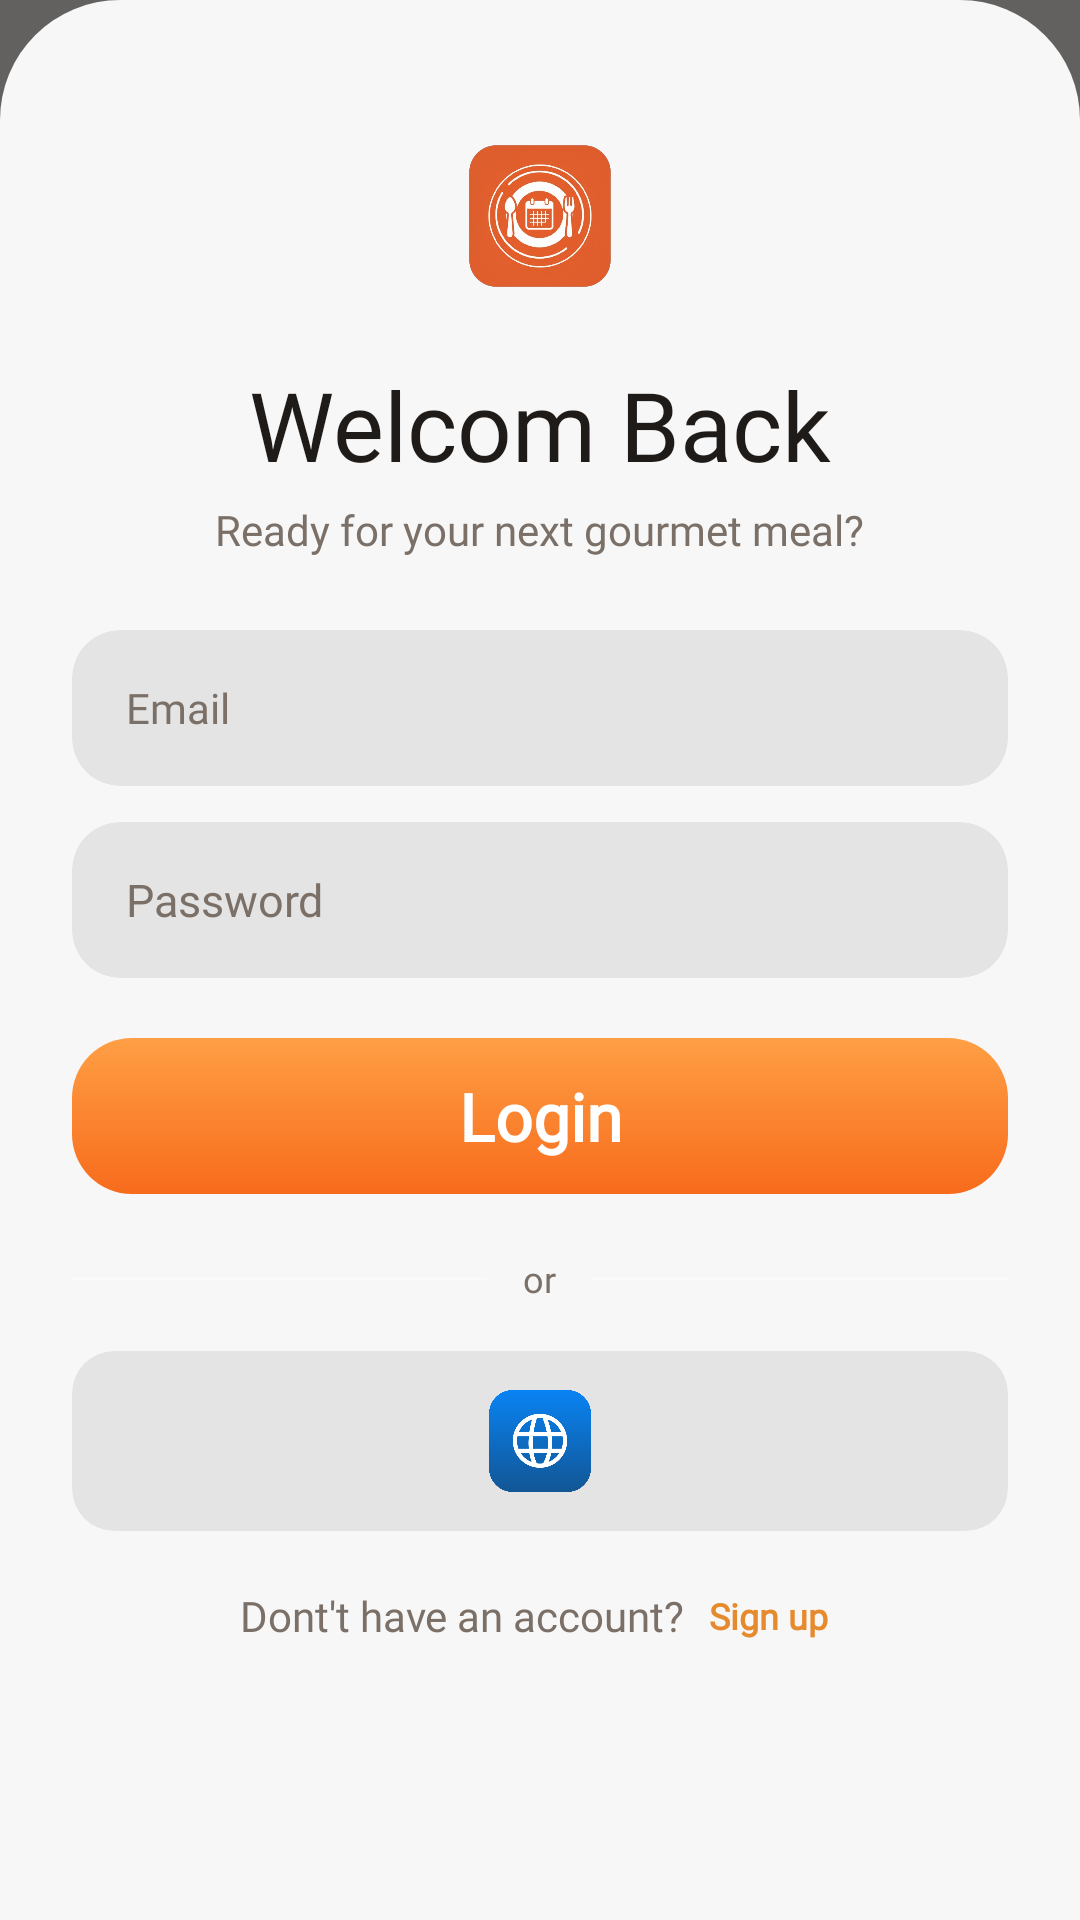

Locate icon controls on the screen. Image size 1080*1920, boxes as rect(x1, y1, x2, y2).
world: rect(489, 1390, 591, 1492)
